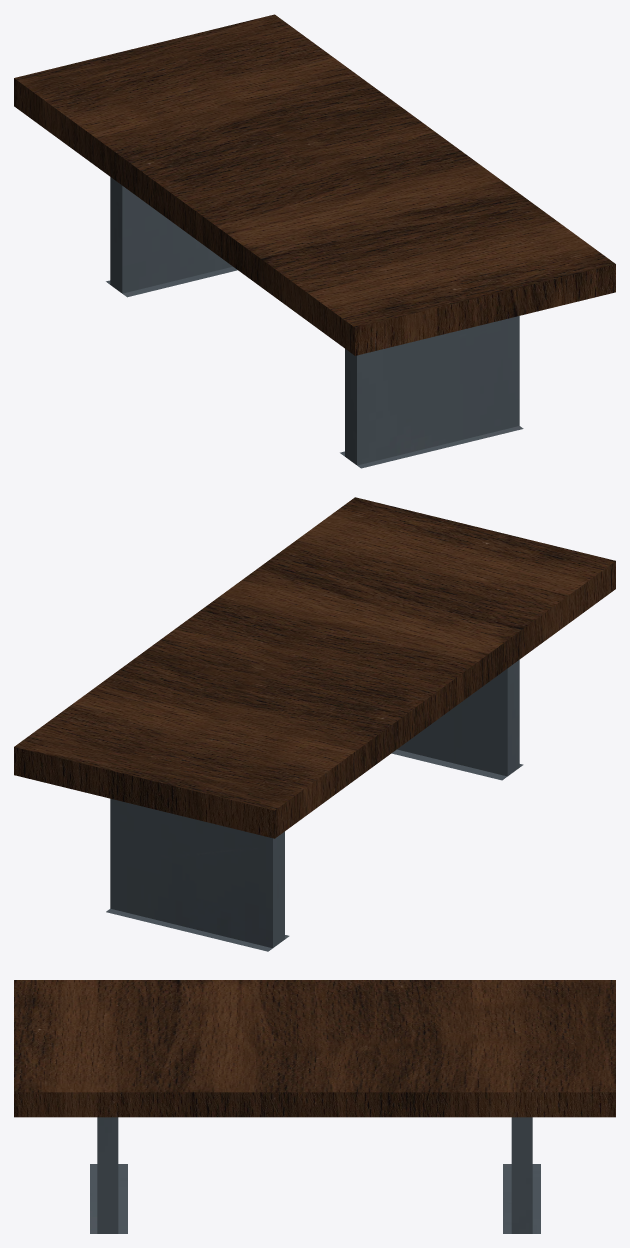
Rendered from desk-transformed.glb.
3 renders of one model, top to bottom at view 1: azimuth 30°, elevation 25°; view 2: azimuth 150°, elevation 25°; view 3: azimuth 270°, elevation 25°, orthographic. The views are drawn at different scales.
Parts seen in each view (by area): view 1: wood top, leg; view 2: wood top, leg; view 3: wood top, leg.
Part boxes in pixels (bbox=[...]): wood top: bbox=[14, 14, 615, 355]; leg: bbox=[106, 177, 523, 468]; wood top: bbox=[14, 497, 615, 838]; leg: bbox=[106, 660, 523, 951]; wood top: bbox=[14, 980, 615, 1117]; leg: bbox=[90, 1117, 540, 1233].
Size of the model in its own units: 3.21 by 2.17 by 7.27.
Materials: 2 (2 with a texture image).
